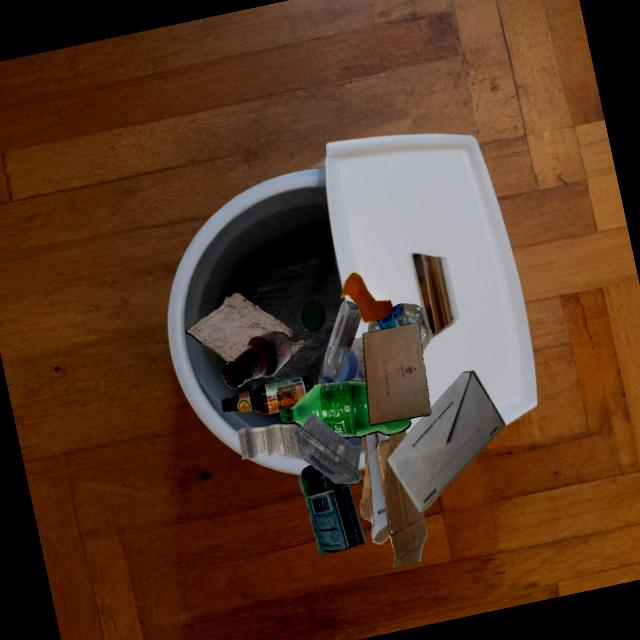biowaste: (340, 272, 393, 322)
cardboard: (359, 429, 427, 567)
glass: (300, 464, 366, 555), (221, 331, 292, 388), (221, 375, 313, 414), (298, 475, 304, 494)
paper: (387, 370, 505, 512), (362, 322, 431, 425), (185, 302, 243, 361), (222, 292, 292, 338), (237, 424, 301, 459), (243, 334, 289, 378)
plastic: (280, 380, 410, 438), (293, 413, 362, 483), (322, 300, 361, 383), (368, 303, 432, 352), (335, 337, 366, 382), (300, 299, 325, 331)
